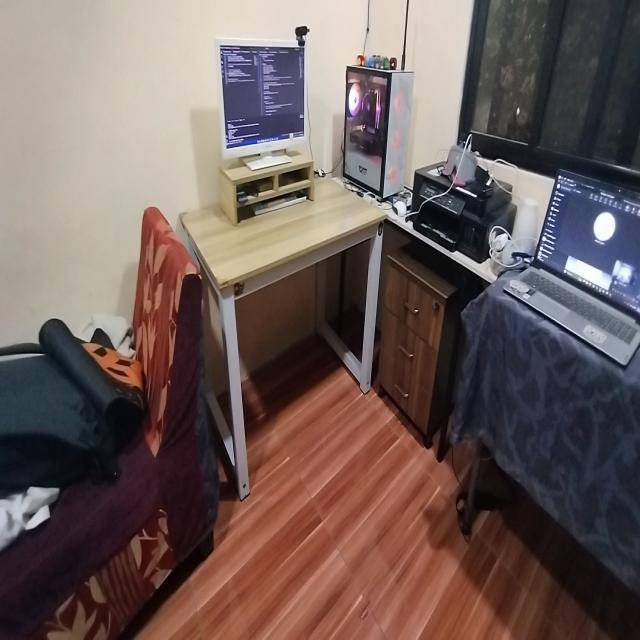table: (181, 143, 390, 507)
